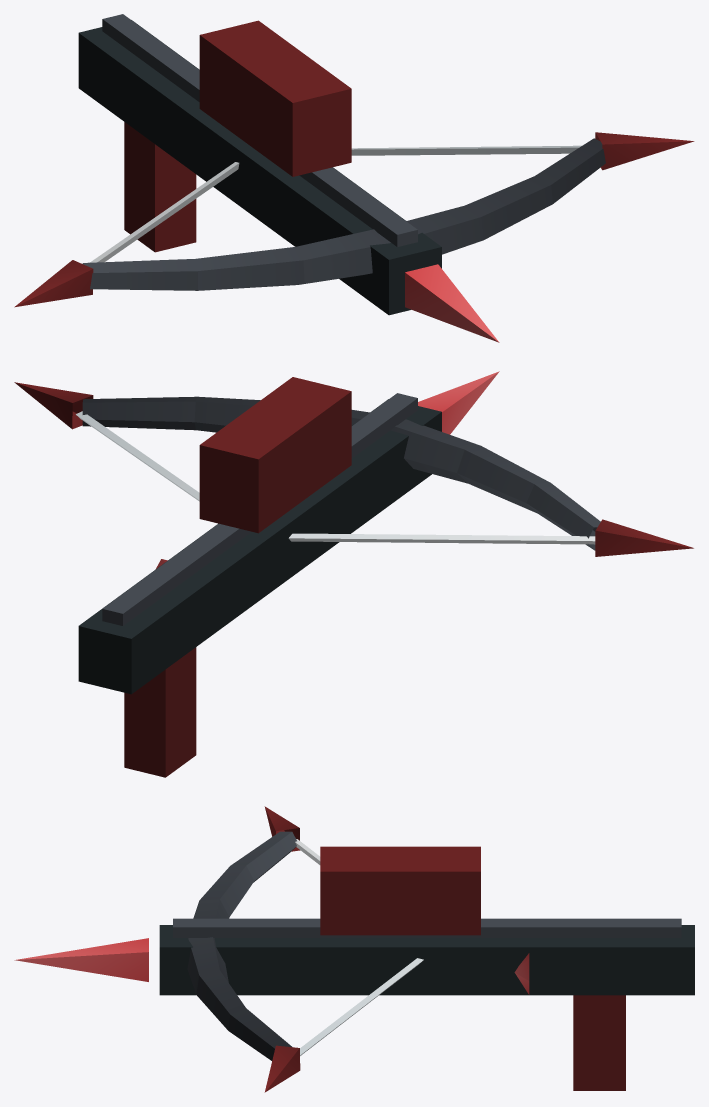
The model's file is ranger_repeater_3.gltf.
3 renders of one model, top to bottom at view 1: azimuth 30°, elevation 25°; view 2: azimuth 150°, elevation 25°; view 3: azimuth 270°, elevation 25°, orthographic. The views are drawn at different scales.
Parts seen in each view (by area): view 1: ranger_repeater_3; view 2: ranger_repeater_3; view 3: ranger_repeater_3.
Boxes of the visible parts, box(x1,y1,x2,y2) form: ranger_repeater_3: box(14, 14, 694, 342); ranger_repeater_3: box(14, 371, 693, 777); ranger_repeater_3: box(14, 806, 694, 1092).
Size of the model in its own units: 1.16 by 0.42 by 1.16.
Materials: 1 (1 with a texture image).
